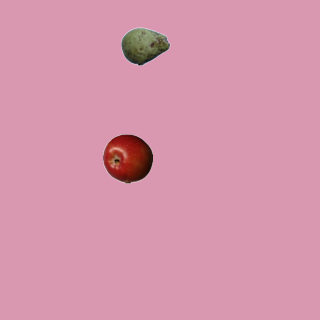Apple Braeburn: (102, 133, 152, 183)
Pear Stone: (120, 21, 170, 71)
